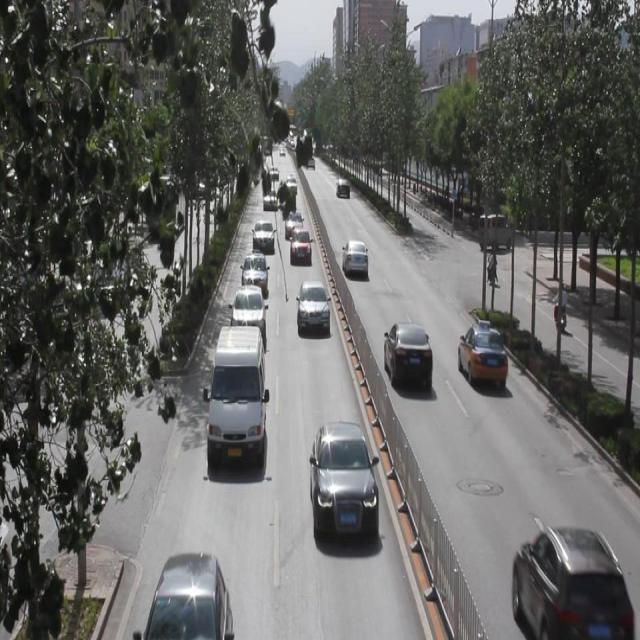car: (512, 525, 621, 640), (310, 422, 377, 547), (148, 553, 230, 640), (458, 325, 506, 394), (384, 324, 431, 391), (231, 286, 264, 344), (297, 281, 329, 338), (240, 252, 266, 298), (342, 239, 368, 280), (289, 228, 312, 266), (253, 221, 274, 254), (286, 209, 302, 239)
truck: (206, 325, 266, 463)
